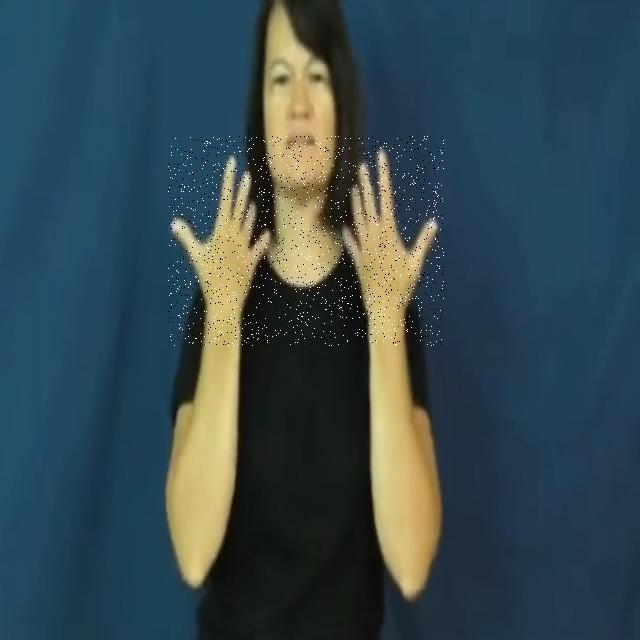cold: (168, 136, 444, 346)
